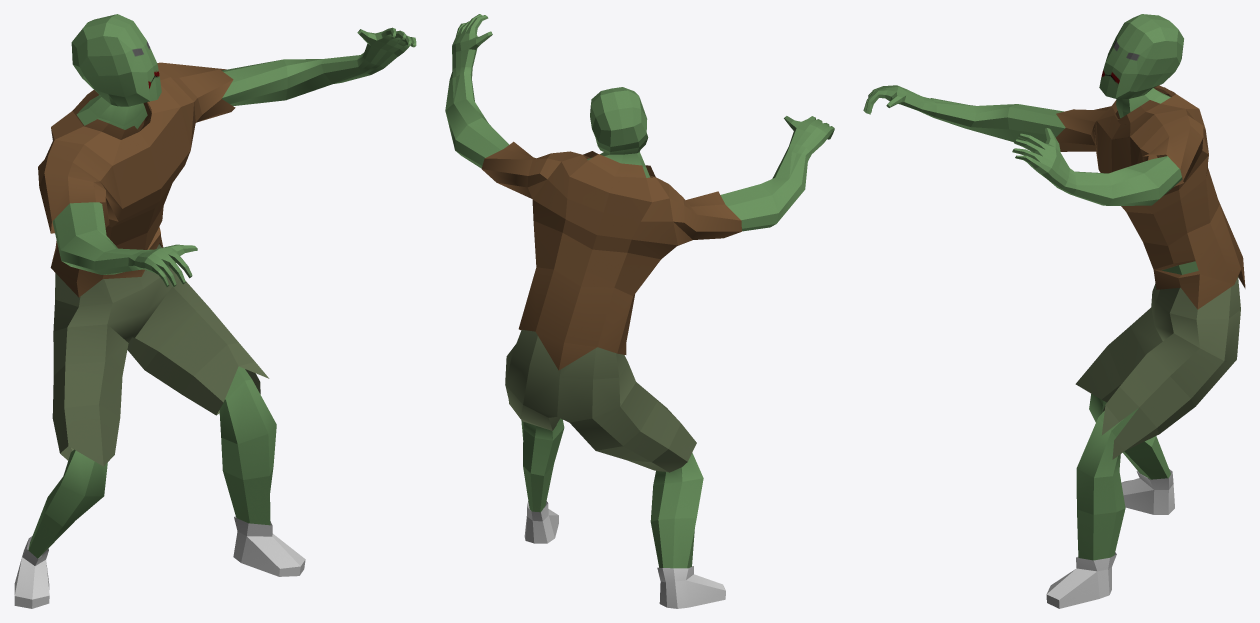
Rendered from ZombieAttack(92).obj.
3 renders of one model, left to right at view 1: azimuth 30°, elevation 25°; view 2: azimuth 150°, elevation 25°; view 3: azimuth 270°, elevation 25°, orthographic. The views are drawn at different scales.
Parts seen in each view (by area): view 1: Object001; view 2: Object001; view 3: Object001.
Boxes of the visible parts, x1,y1,x2,y2 form: Object001: (14, 14, 416, 608); Object001: (445, 14, 834, 608); Object001: (863, 14, 1245, 608).
Bounding box in the file's own units: 36.2 × 53.78 × 35.49.
